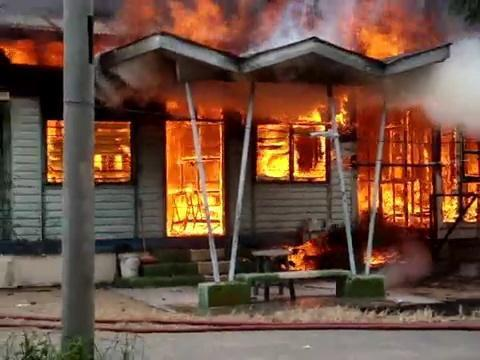fire: (101, 0, 445, 64), (358, 98, 476, 223), (246, 85, 352, 188), (158, 85, 228, 240), (40, 113, 136, 188), (273, 231, 405, 275), (3, 26, 66, 66)
